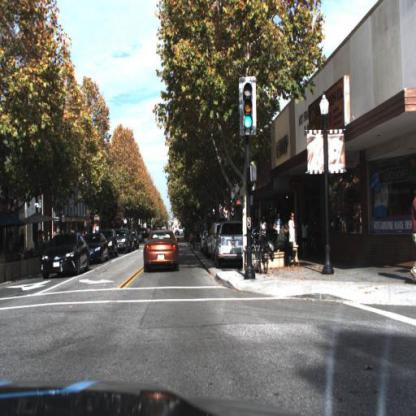car: (41, 229, 92, 279), (143, 228, 182, 275), (213, 221, 247, 270), (90, 230, 108, 264), (118, 228, 132, 255), (108, 231, 119, 260)
pedestrian: (288, 212, 297, 246), (301, 219, 308, 258), (277, 214, 283, 239), (261, 217, 267, 240)
trafficLight: (239, 77, 258, 137)
